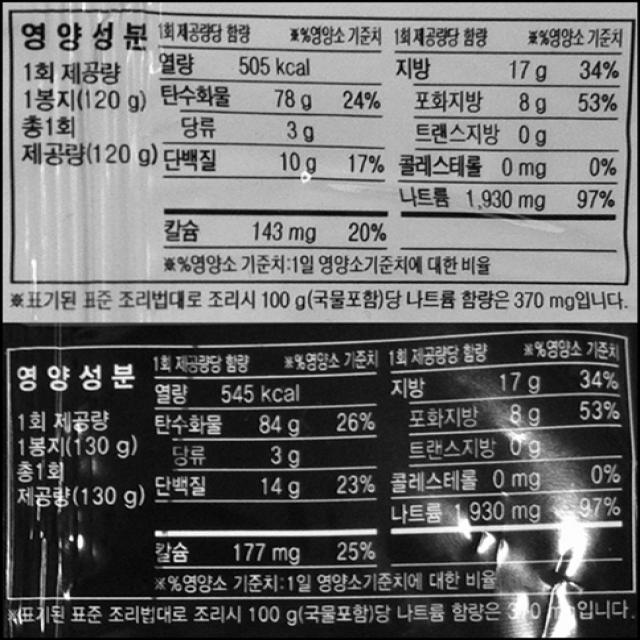Nutrition Label: (6, 8, 635, 290), (4, 330, 636, 603)
